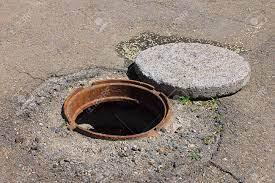open manhole-not overflowing-: (63, 38, 256, 148)
